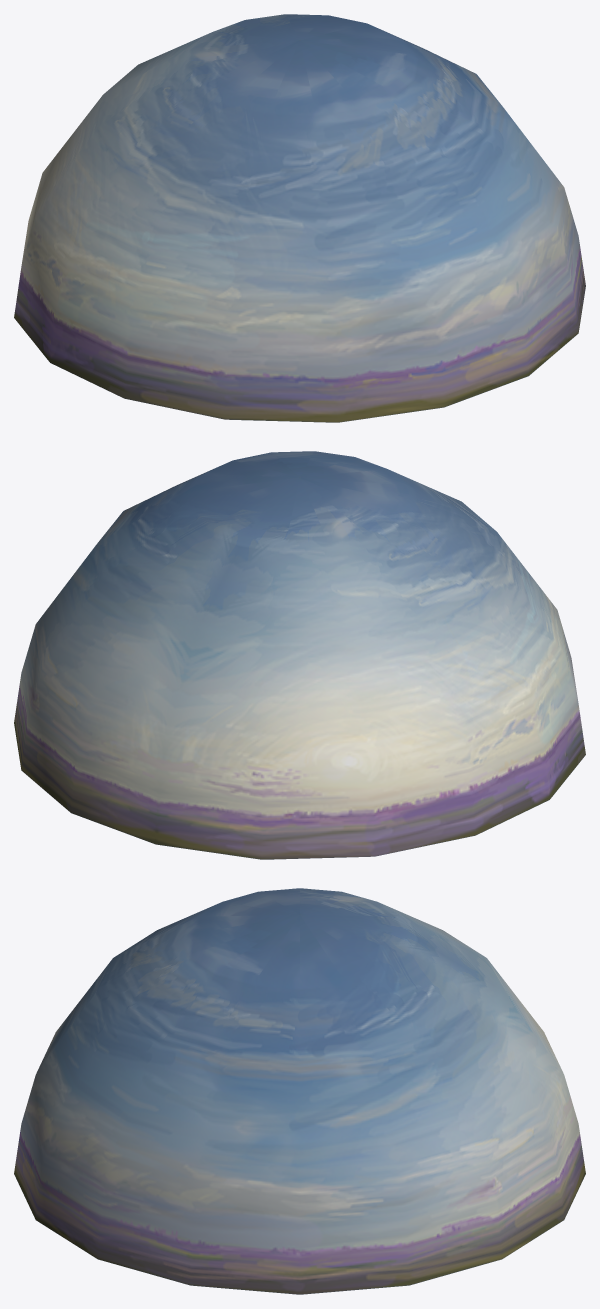
File: Skydome.fbx
3 views of the same model, one above another, from view 1: azimuth 30°, elevation 25°; view 2: azimuth 150°, elevation 25°; view 3: azimuth 270°, elevation 25° (orthographic).
Visible parts, largest first — view 1: SKYDOME; view 2: SKYDOME; view 3: SKYDOME.
Part boxes in pixels (<box>): SKYDOME: <box>14,14,585,422</box>; SKYDOME: <box>14,451,585,859</box>; SKYDOME: <box>14,888,585,1294</box>.
Size of the model in its own units: 321246 by 160623 by 321246.
